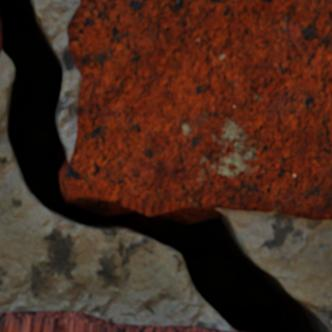brick: (62, 0, 331, 219), (0, 310, 235, 331), (0, 19, 1, 53)
crack: (0, 0, 330, 331)
